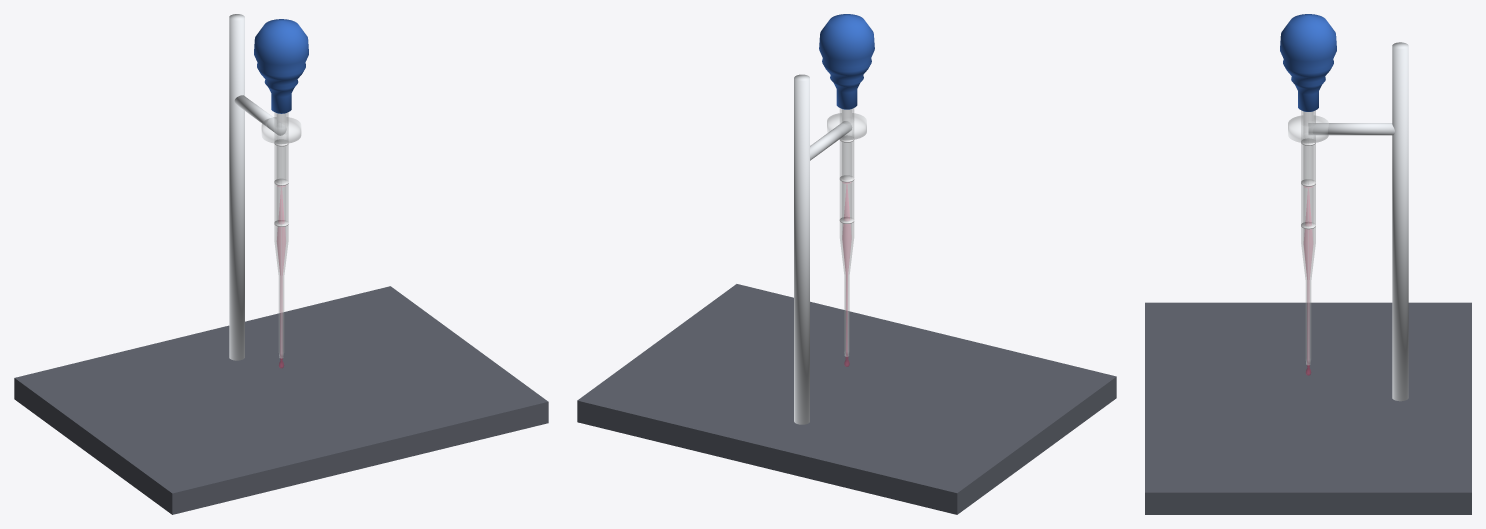
The model's file is dropper.glb.
3 renders of one model, left to right at view 1: azimuth 30°, elevation 25°; view 2: azimuth 150°, elevation 25°; view 3: azimuth 270°, elevation 25°, orthographic. The views are drawn at different scales.
Visible parts, largest first — view 1: dropper_Plinth, dropper_Stand_Post, dropper_Rubber_Bulb, dropper_Glass_Pipette, dropper_Cradle_Fork, dropper_Support_Arm, dropper_Liquid_Column; view 2: dropper_Plinth, dropper_Stand_Post, dropper_Rubber_Bulb, dropper_Glass_Pipette, dropper_Cradle_Fork, dropper_Liquid_Column, dropper_Support_Arm; view 3: dropper_Plinth, dropper_Stand_Post, dropper_Rubber_Bulb, dropper_Glass_Pipette, dropper_Support_Arm, dropper_Cradle_Fork, dropper_Liquid_Column.
Boxes of the visible parts, left/top/right/bottom form: dropper_Plinth: left=14, top=286, right=548, bottom=514; dropper_Stand_Post: left=229, top=14, right=244, bottom=360; dropper_Rubber_Bulb: left=254, top=19, right=308, bottom=113; dropper_Glass_Pipette: left=274, top=112, right=288, bottom=358; dropper_Cradle_Fork: left=261, top=117, right=301, bottom=143; dropper_Support_Arm: left=234, top=95, right=286, bottom=135; dropper_Liquid_Column: left=277, top=187, right=285, bottom=357; dropper_Plinth: left=577, top=284, right=1116, bottom=514; dropper_Stand_Post: left=794, top=74, right=809, bottom=424; dropper_Rubber_Bulb: left=819, top=14, right=874, bottom=109; dropper_Glass_Pipette: left=839, top=108, right=854, bottom=356; dropper_Cradle_Fork: left=827, top=113, right=866, bottom=140; dropper_Liquid_Column: left=842, top=183, right=851, bottom=355; dropper_Support_Arm: left=810, top=121, right=851, bottom=160; dropper_Plinth: left=1145, top=302, right=1471, bottom=514; dropper_Stand_Post: left=1392, top=42, right=1408, bottom=401; dropper_Rubber_Bulb: left=1280, top=14, right=1336, bottom=111; dropper_Glass_Pipette: left=1301, top=110, right=1315, bottom=365; dropper_Support_Arm: left=1308, top=123, right=1394, bottom=135; dropper_Cradle_Fork: left=1288, top=115, right=1328, bottom=143; dropper_Liquid_Column: left=1304, top=187, right=1312, bottom=364.
Size of the model in its own units: 0.22 by 0.218 by 0.16.
